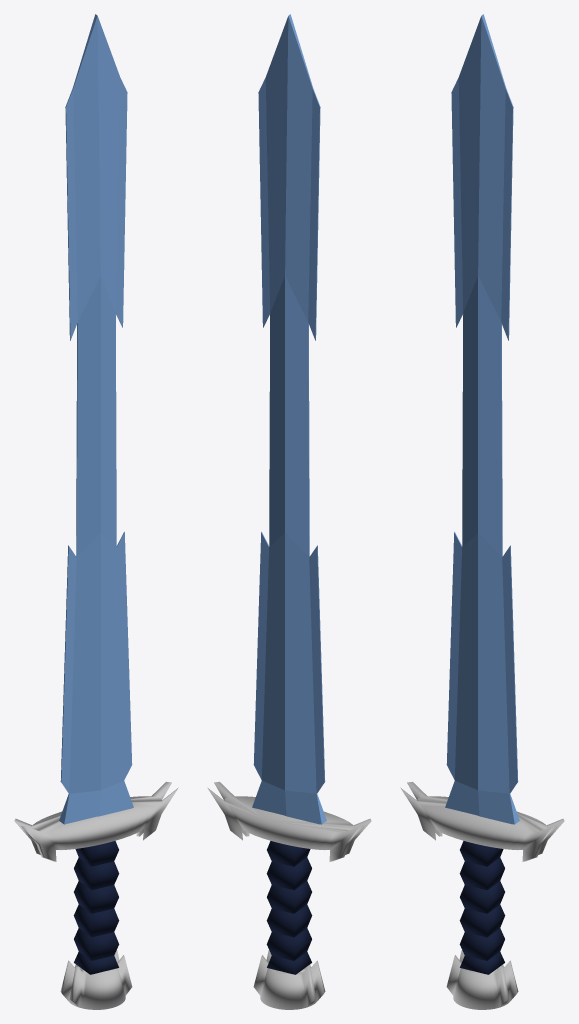
File: sword_05.fbx
The picture shows the model from 3 angles, left to right: view 1: azimuth 30°, elevation 25°; view 2: azimuth 150°, elevation 25°; view 3: azimuth 330°, elevation 25°; orthographic projection.
Parts seen in each view (by area): view 1: Cube.001, Cube, Cylinder.001, Cylinder; view 2: Cube.001, Cube, Cylinder.001, Cylinder; view 3: Cube.001, Cube, Cylinder.001, Cylinder.
Boxes of the visible parts, box(x1,y1,x2,y2) form: Cube.001: box(59, 14, 133, 824); Cube: box(73, 841, 119, 974); Cylinder.001: box(14, 781, 178, 861); Cylinder: box(60, 950, 132, 1009); Cube.001: box(252, 14, 326, 824); Cube: box(266, 841, 312, 974); Cylinder.001: box(207, 781, 371, 861); Cylinder: box(253, 950, 325, 1009); Cube.001: box(445, 14, 519, 824); Cube: box(459, 841, 505, 974); Cylinder.001: box(400, 781, 564, 861); Cylinder: box(446, 950, 518, 1009).
Size of the model in its own units: 1094 by 6502 by 352.
